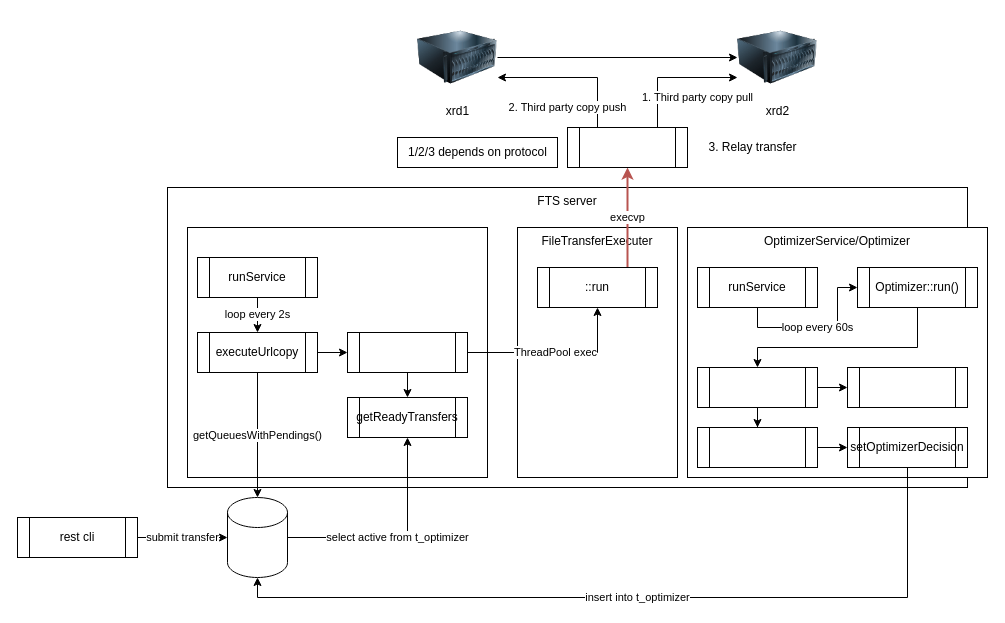
Some shapes in this 1005 by 623 pixel diagram are drawn without their labels. The shapes that lost their labels are listed below. From the top down, each one's box as (x1, y1, x2, y2) in pixels, then its label:
(566, 126, 688, 168): fts_url_copy + parms
(186, 226, 488, 478): TransferService
(346, 332, 468, 372): getFiles
(696, 366, 818, 408): runTCNOptimizer
(846, 366, 968, 408): TCNEventLoop::step()
(696, 426, 818, 468): applyDecisions
(226, 496, 288, 578): mysql
